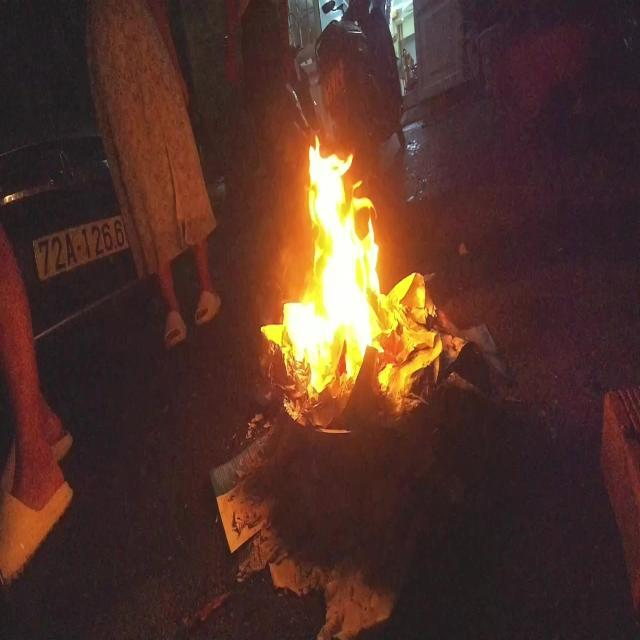Fire: (260, 138, 388, 416)
